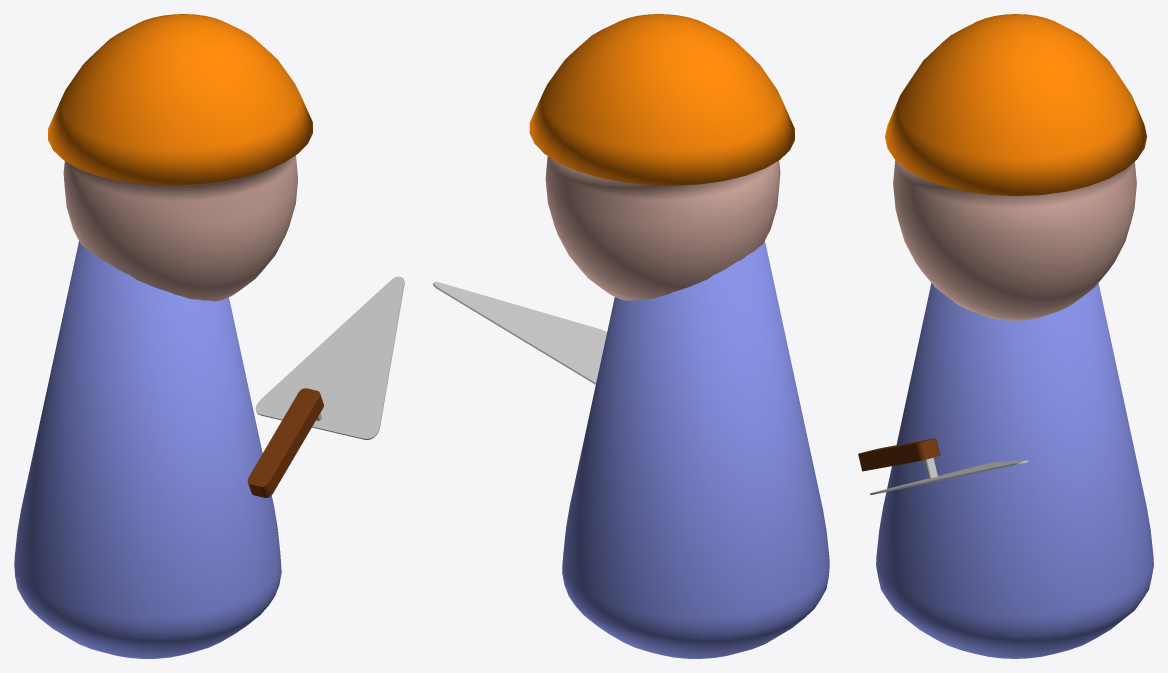
The model's file is Builder.fbx.
The picture shows the model from 3 angles, left to right: view 1: azimuth 30°, elevation 25°; view 2: azimuth 150°, elevation 25°; view 3: azimuth 270°, elevation 25°; orthographic projection. The views are drawn at different scales.
Parts seen in each view (by area): view 1: Sphere, Cube.003; view 2: Sphere, Cube.003; view 3: Sphere, Cube.003.
Boxes of the visible parts, x1,y1,x2,y2 form: Sphere: (14,14,312,658); Cube.003: (247,276,404,497); Sphere: (529,14,829,658); Cube.003: (433,281,606,384); Sphere: (876,14,1153,658); Cube.003: (858,438,1028,495).
Size of the model in its own units: 183 by 284 by 121.
